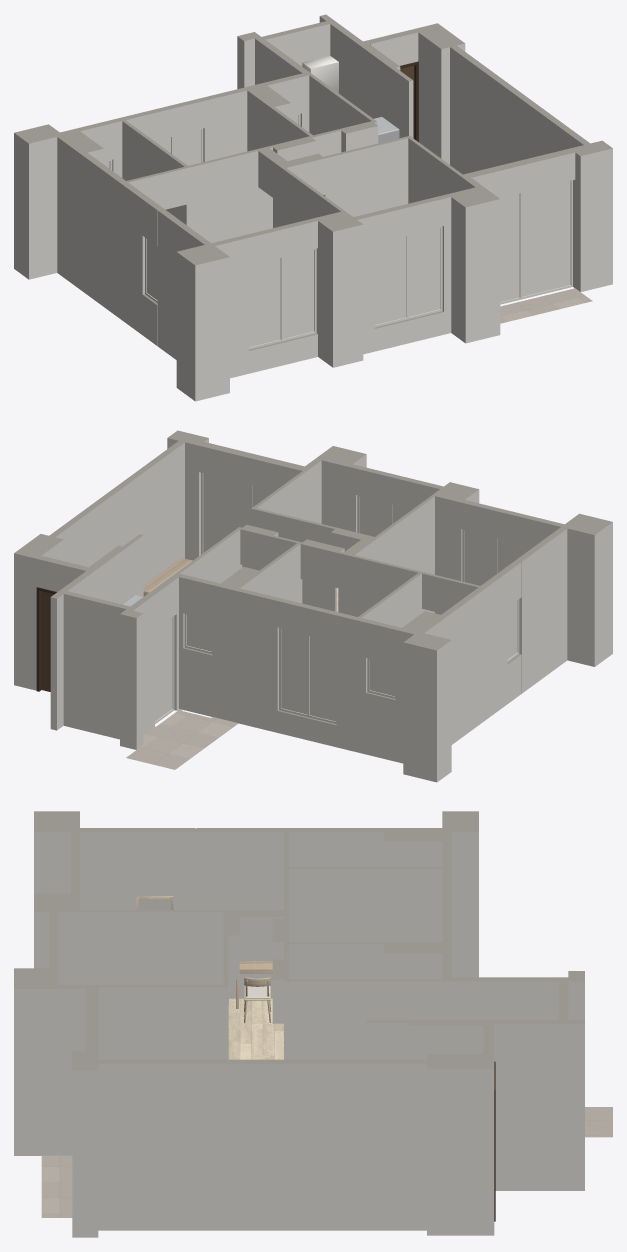
Rendered from a2-muji-baked.glb.
3 renders of one model, top to bottom at view 1: azimuth 30°, elevation 25°; view 2: azimuth 150°, elevation 25°; view 3: azimuth 270°, elevation 25°, orthographic. The views are drawn at different scales.
Visible parts, largest first — view 1: Material_1_cut_cap, Material_2_cut, Material_0_cut_cap, floor-balcony, furn-lacquer; view 2: Material_1_cut_cap, Material_2_cut, Material_0_cut_cap, floor-balcony, Material_40, Material_39, furn-oak; view 3: Material_1_cut_cap, Material_0_cut_cap, floor-wood, floor-balcony, Material_2_cut, furn-oak.
Part boxes in pixels (left/top/right/bottom): Material_1_cut_cap: left=14, top=16, right=612, bottom=401; Material_2_cut: left=104, top=114, right=572, bottom=349; Material_0_cut_cap: left=14, top=14, right=612, bottom=350; floor-balcony: left=500, top=288, right=592, bottom=323; furn-lacquer: left=302, top=55, right=338, bottom=93; Material_1_cut_cap: left=14, top=438, right=612, bottom=782; Material_2_cut: left=155, top=472, right=528, bottom=723; Material_0_cut_cap: left=14, top=430, right=612, bottom=725; floor-balcony: left=126, top=708, right=238, bottom=769; Material_40: left=41, top=591, right=53, bottom=691; Material_39: left=36, top=587, right=57, bottom=691; furn-oak: left=143, top=558, right=338, bottom=611; Material_1_cut_cap: left=14, top=832, right=584, bottom=1237; Material_0_cut_cap: left=14, top=811, right=584, bottom=1070; floor-wood: left=228, top=998, right=283, bottom=1059; floor-balcony: left=41, top=1107, right=612, bottom=1217; Material_2_cut: left=195, top=876, right=232, bottom=909; furn-oak: left=136, top=896, right=272, bottom=1022.
Bounding box in the file's own units: 10 × 3 × 9.75.
26 materials, 12 textured.
